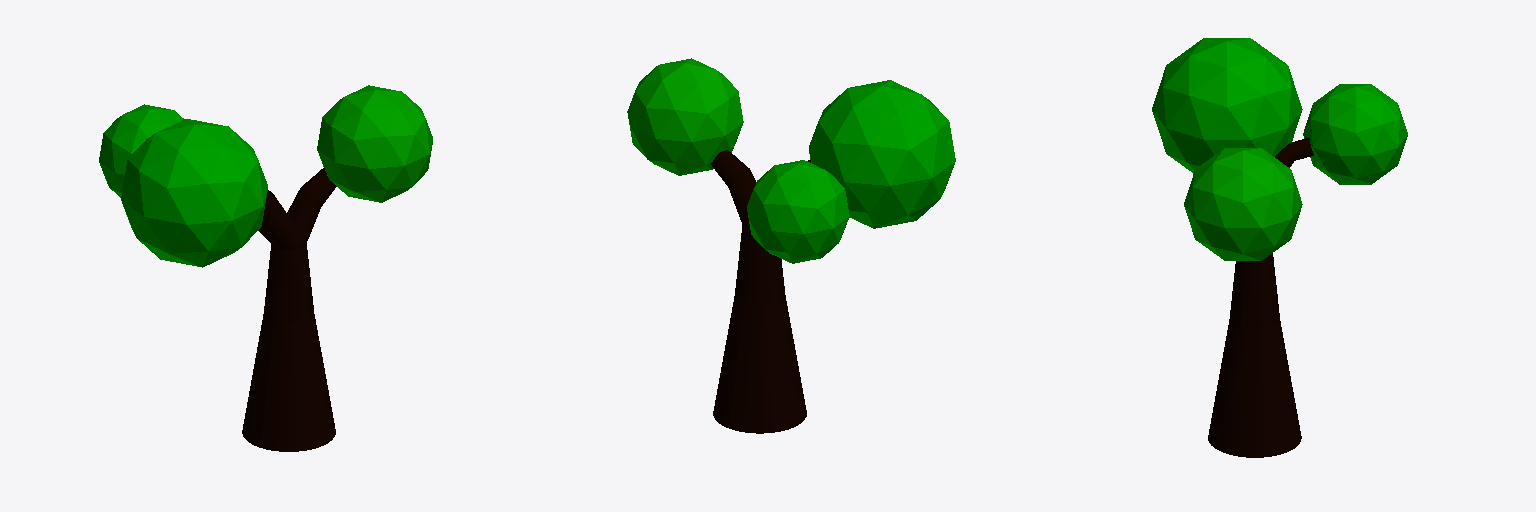
Rendered from tree.obj.
3 renders of one model, left to right at view 1: azimuth 30°, elevation 25°; view 2: azimuth 150°, elevation 25°; view 3: azimuth 270°, elevation 25°, orthographic.
Visible parts, largest first — view 1: Cylinder.001_Cylinder.002; view 2: Cylinder.001_Cylinder.002; view 3: Cylinder.001_Cylinder.002.
Boxes of the visible parts, <box> form: Cylinder.001_Cylinder.002: <box>99,85,432,451</box>; Cylinder.001_Cylinder.002: <box>627,58,955,433</box>; Cylinder.001_Cylinder.002: <box>1152,38,1407,457</box>.
Size of the model in its own units: 7.37 by 8.08 by 5.46.